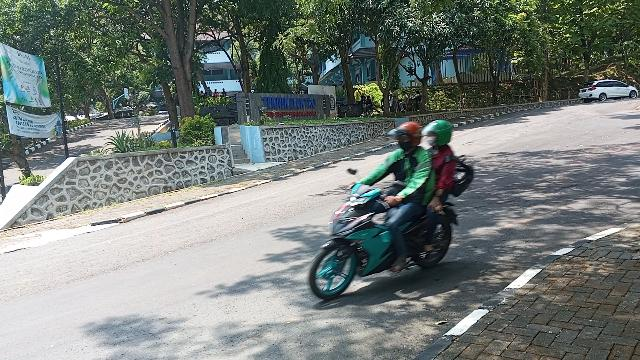helm: (387, 123, 423, 155), (422, 120, 454, 151)
motor: (308, 167, 462, 303)
